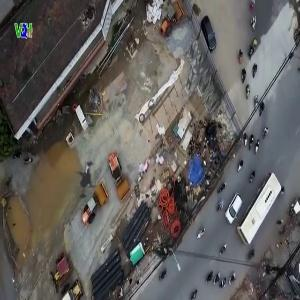drone: (52, 142, 129, 219)
